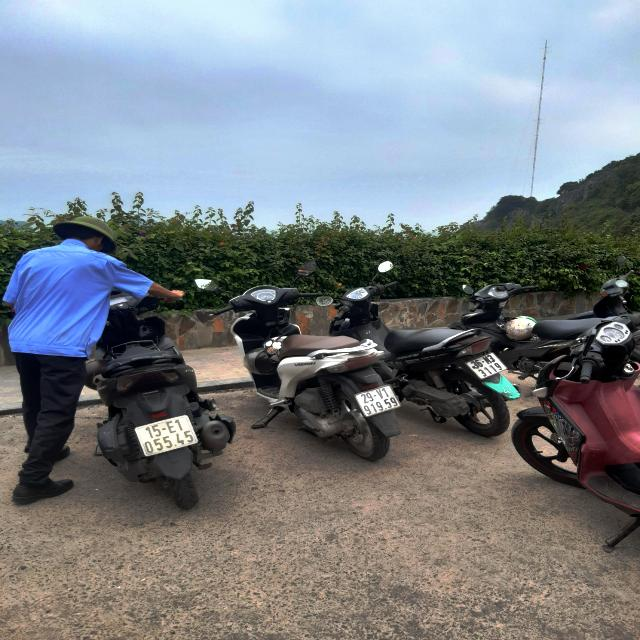license_plate: (128, 412, 205, 462), (352, 383, 407, 420), (461, 357, 512, 384)
